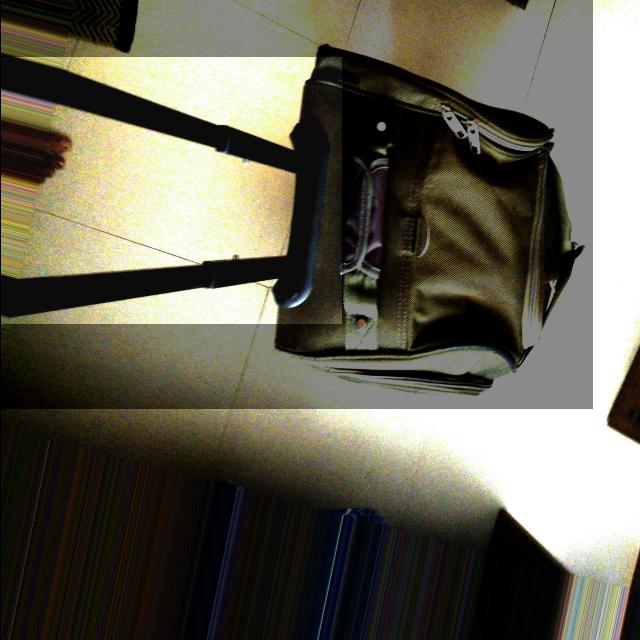Bag: (0, 26, 584, 408)
Handle: (0, 67, 333, 326)
